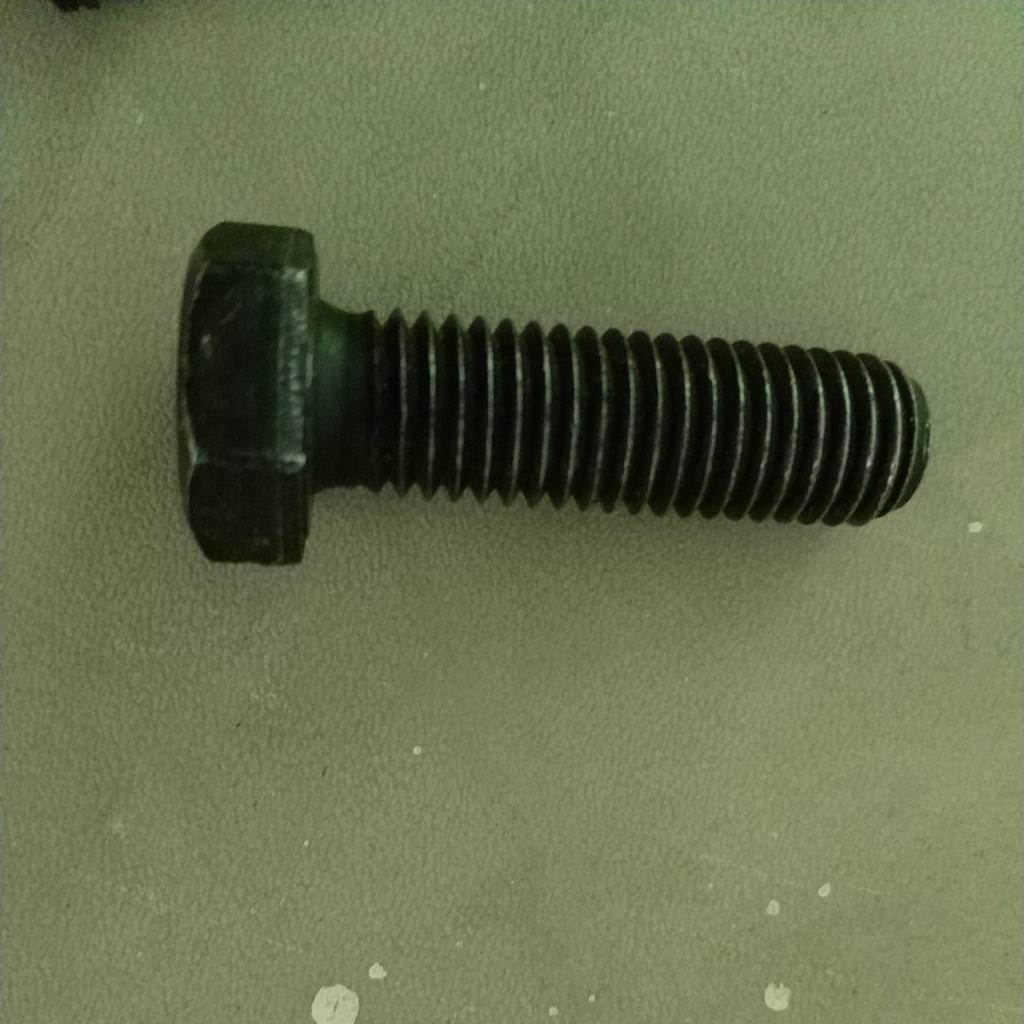screwtype2black: (167, 216, 929, 586)
